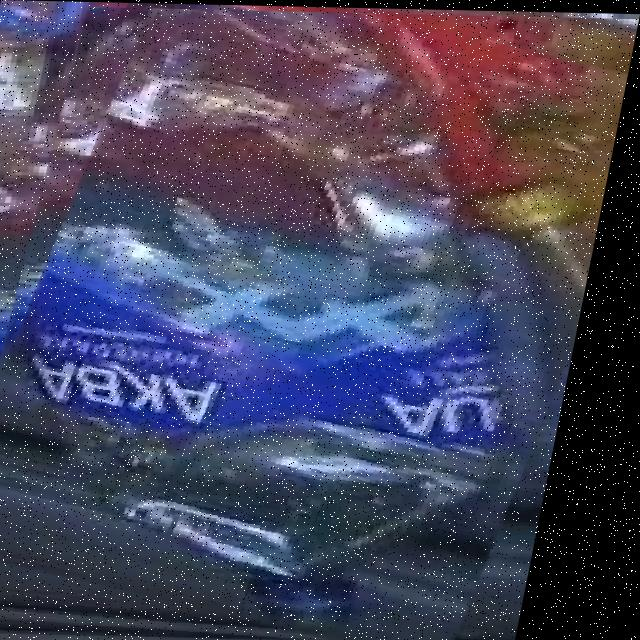litter: (0, 6, 639, 640)
